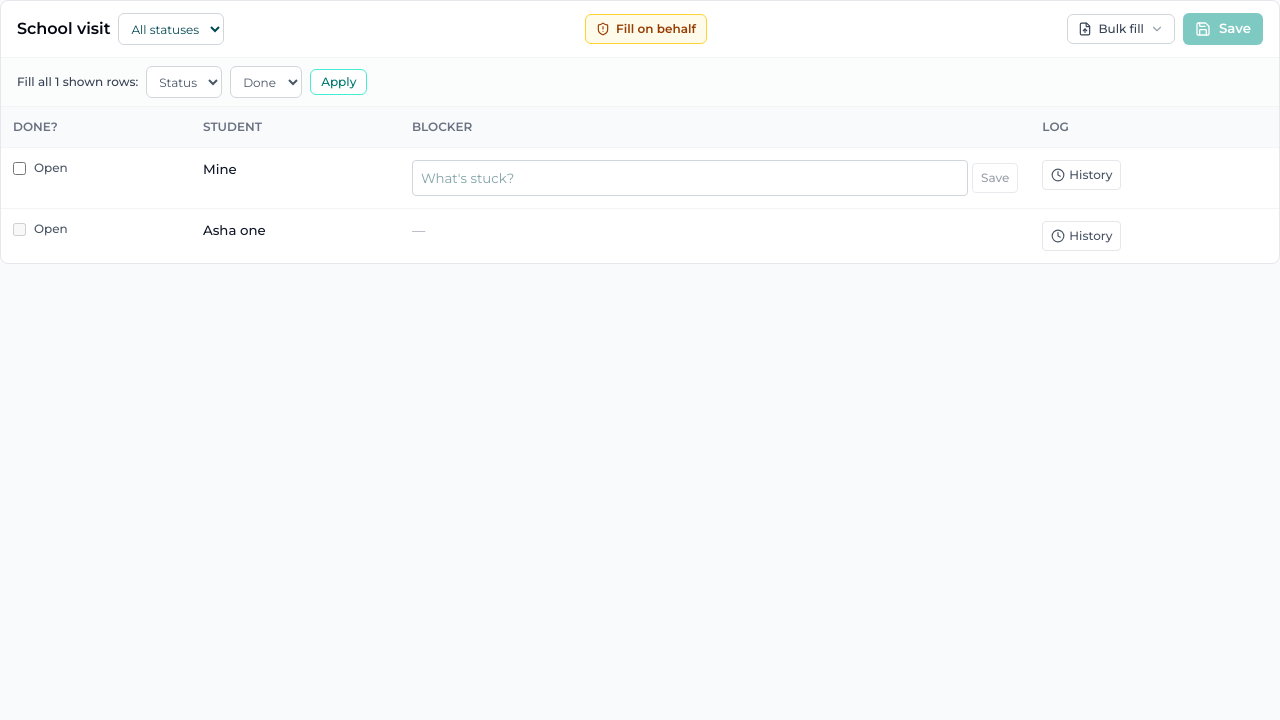
saving a mixed grid › reports its own rows separately when only they are refused
Click the button "Fill on behalf" at (646, 29), box [585, 14, 707, 44]
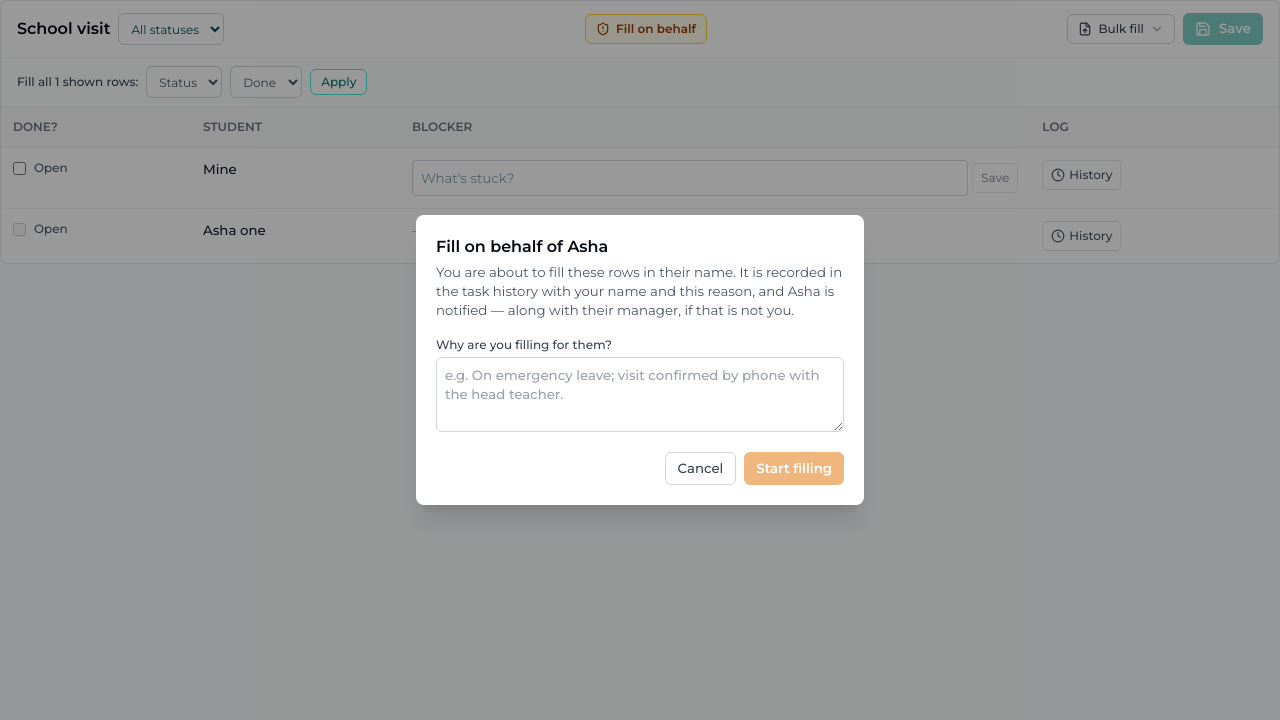
Replace the text in the text box labelled "Why are you filling for them?" with "Both are on leave; visits confirmed by phone." at (640, 394), box [436, 356, 844, 432]
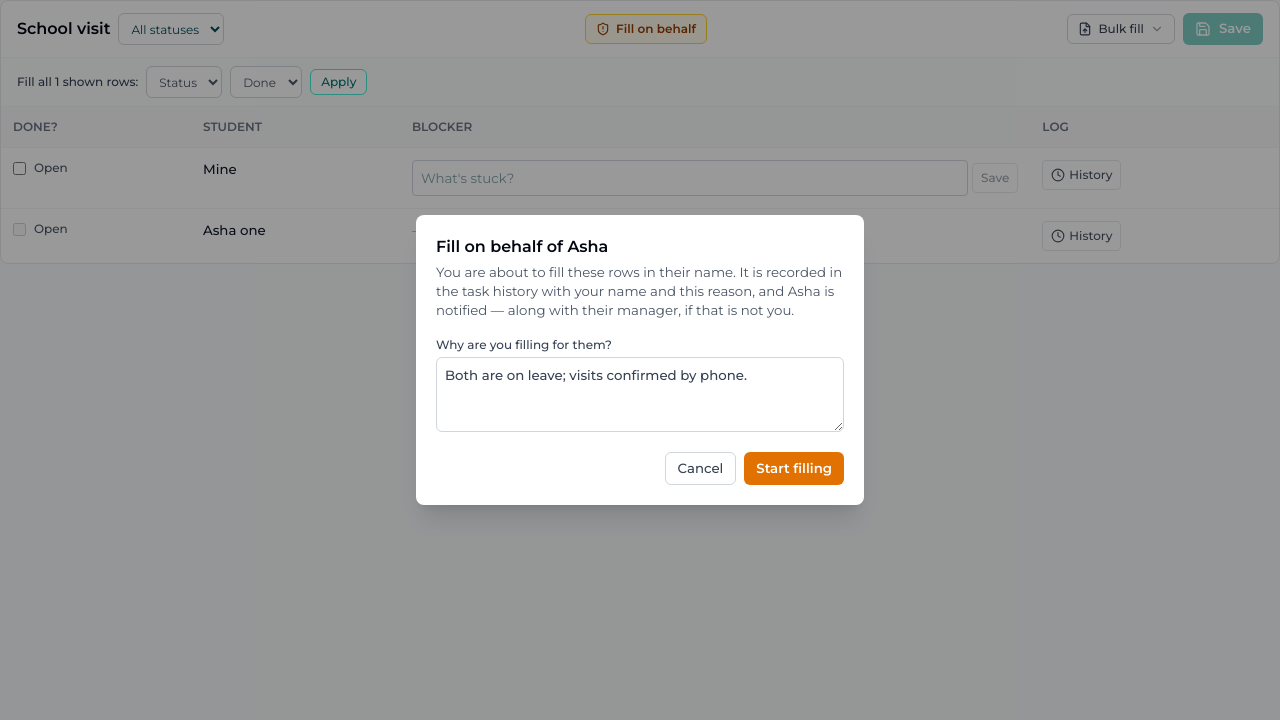
Click the button "Start filling" at (794, 468), box [744, 452, 844, 484]
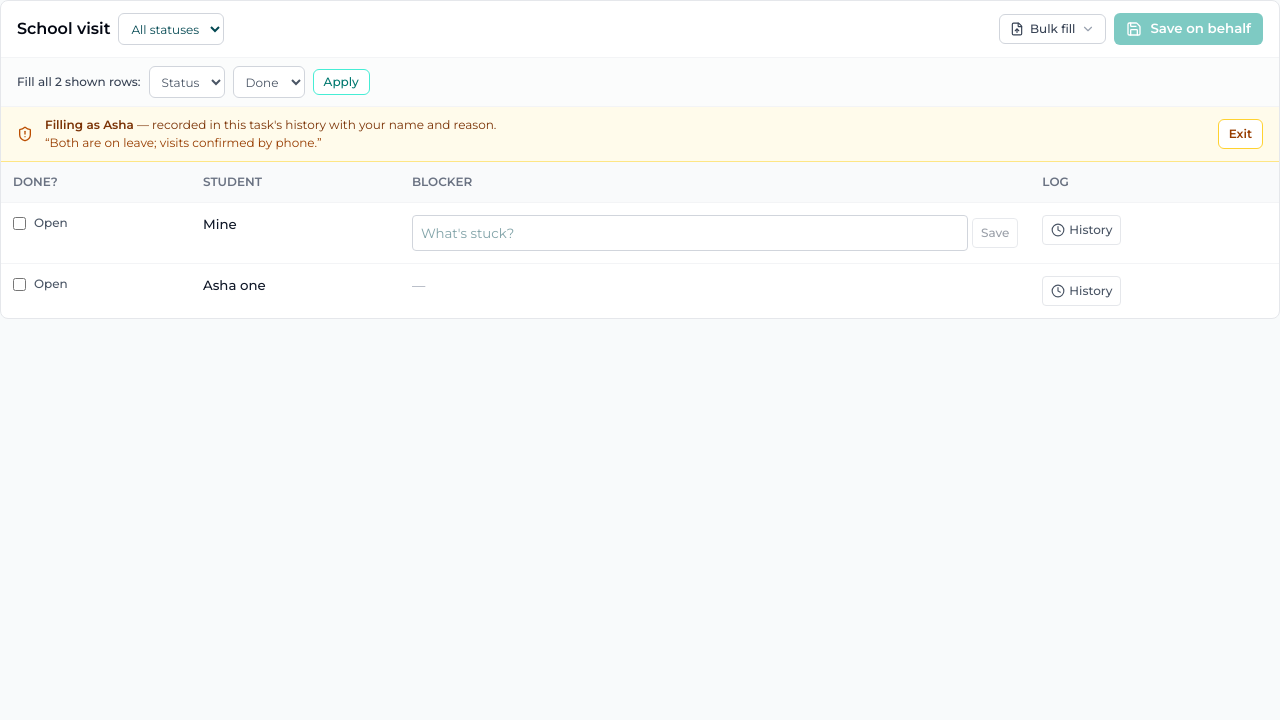
Expected: the text "recorded in this task's history" is shown, [134, 117, 496, 132]
Click the checkbox labelled "Open" in the row of "Mine" at (20, 223), box [13, 216, 26, 230]
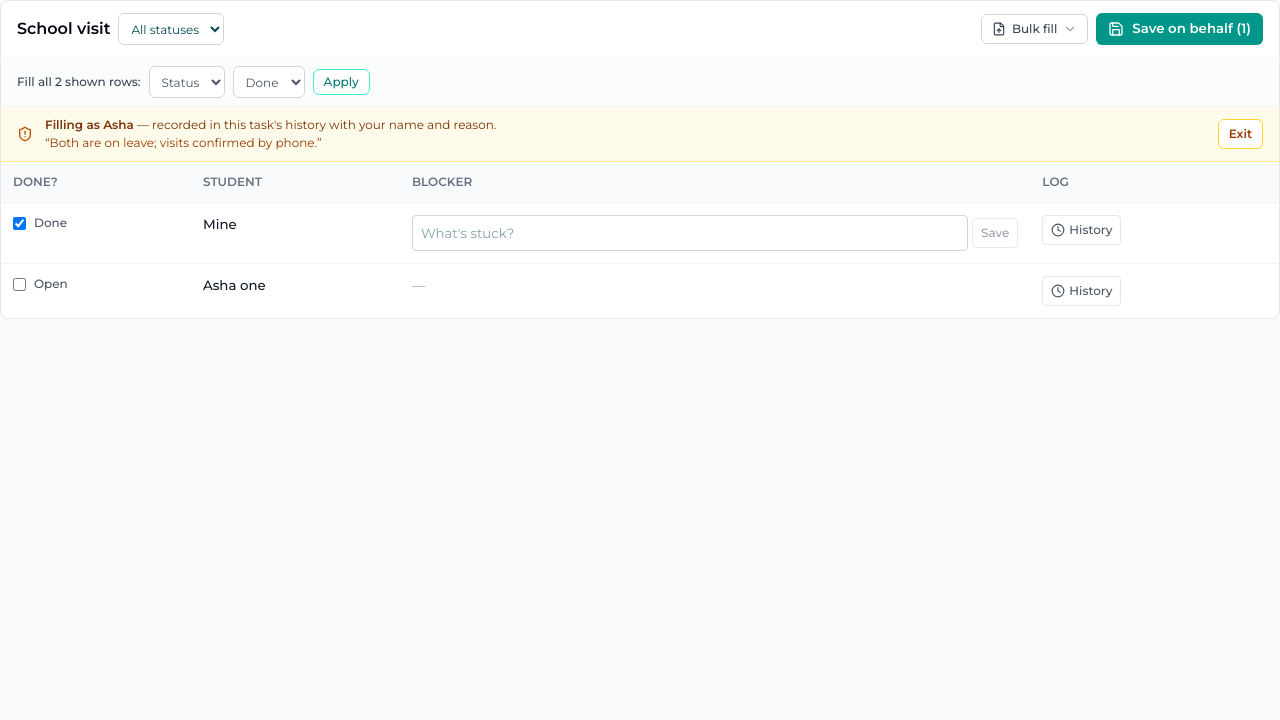
Click the checkbox labelled "Open" at (20, 284), box [13, 278, 26, 290]
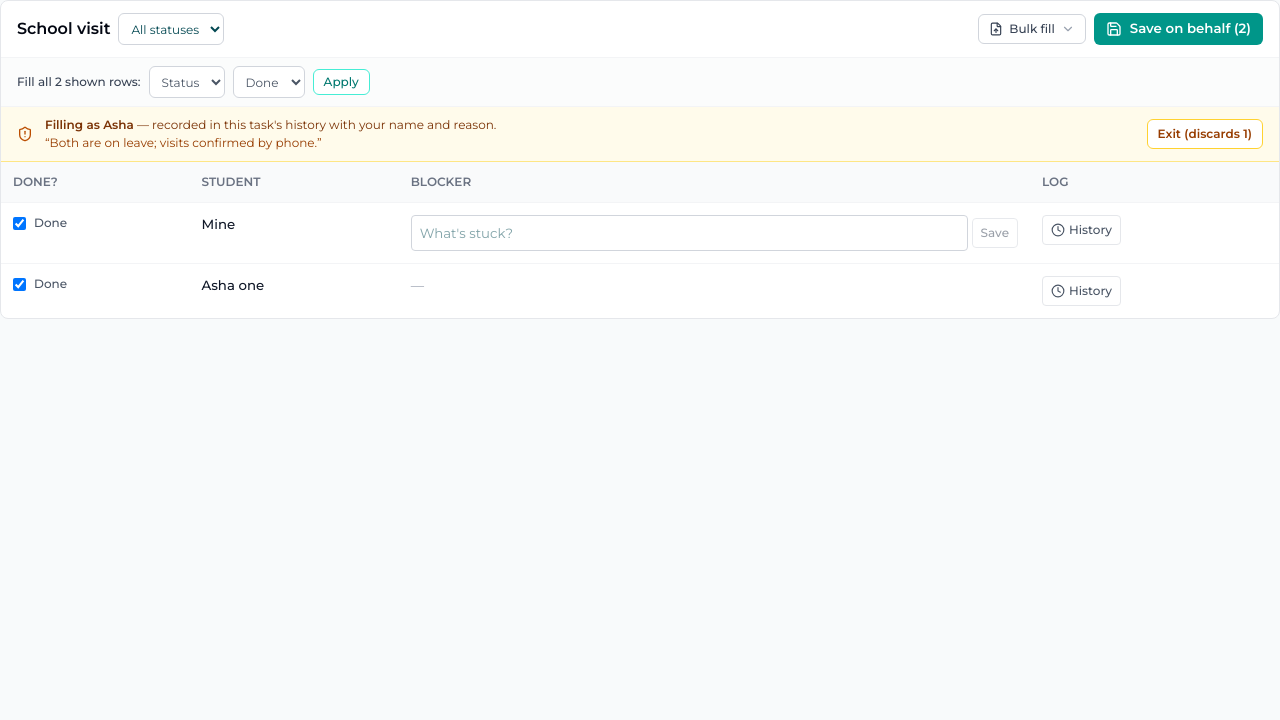
Click the button "Save on behalf (2)" at (1178, 29), box [1094, 14, 1263, 44]
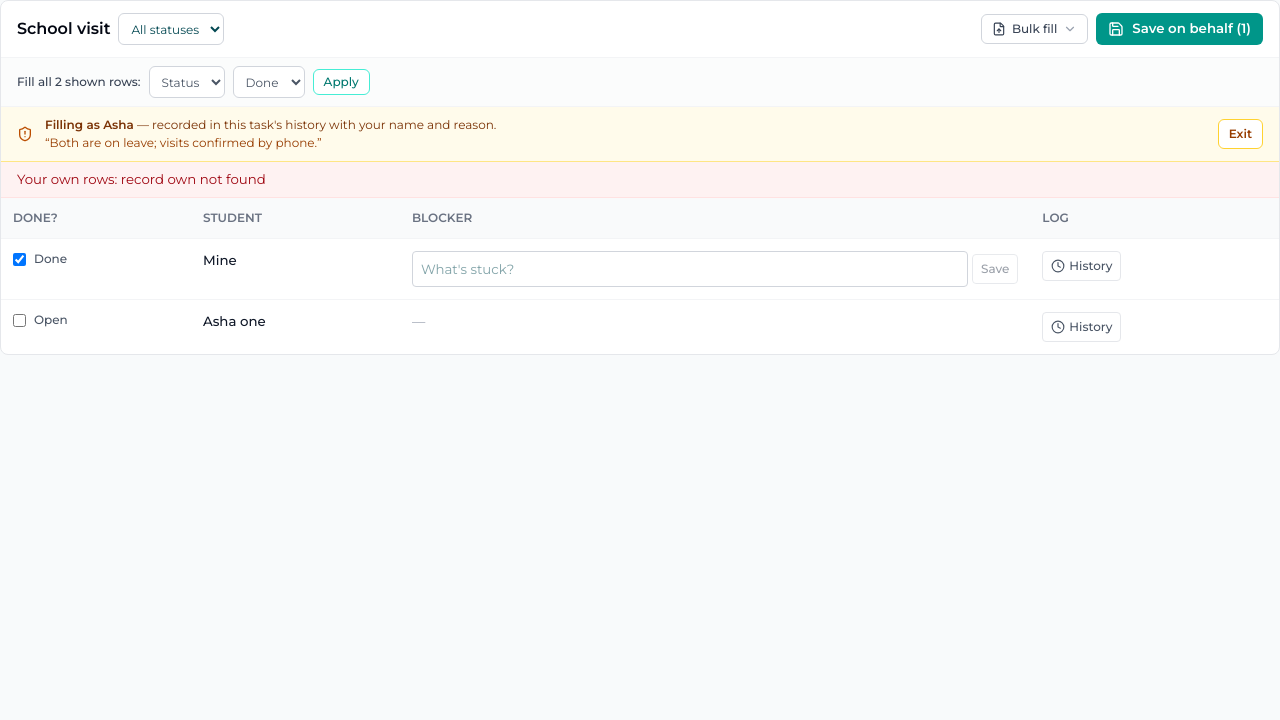
Expected: the text "Your own rows: record own not found" is shown, [1, 162, 1279, 198]
Expected: the button "Save on behalf (1)" is shown, [1096, 14, 1263, 44]
